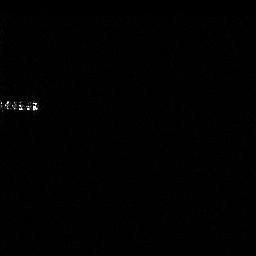ship: (1, 97, 40, 114)
